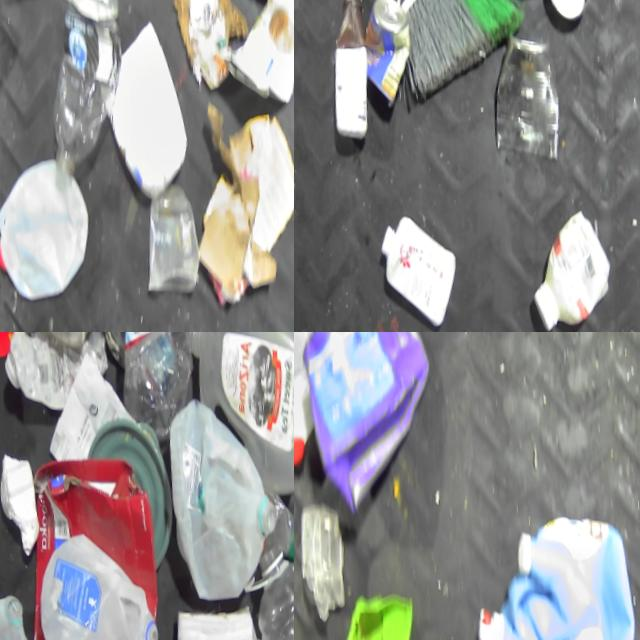can: (481, 21, 564, 161), (352, 0, 415, 110), (176, 0, 233, 89), (537, 0, 592, 18)
milk_jug: (149, 388, 284, 607), (169, 332, 294, 496), (20, 522, 161, 640), (0, 145, 91, 307), (294, 332, 324, 471)
non_white_jug: (294, 332, 445, 524), (457, 496, 640, 640)
plastic_bottle: (34, 0, 130, 178), (103, 332, 203, 443)
